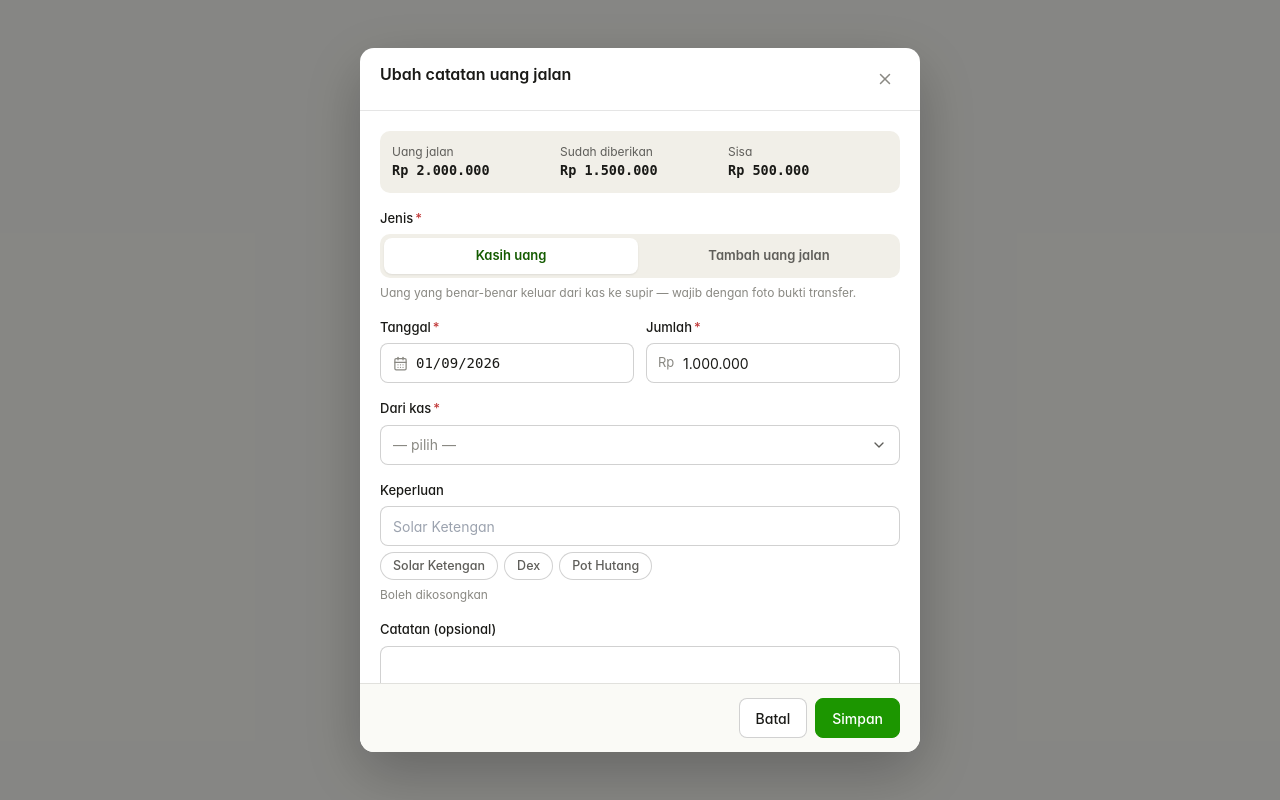
Test case: UangJalanModal — batas uang jalan › mengubah pencairan lama: nominal lamanya ikut dihitung sebagai sisa
The image size is (1280, 800).
Replace the text in the field with placeholder "0" with "1500000": (773, 363) [646,343,900,383]
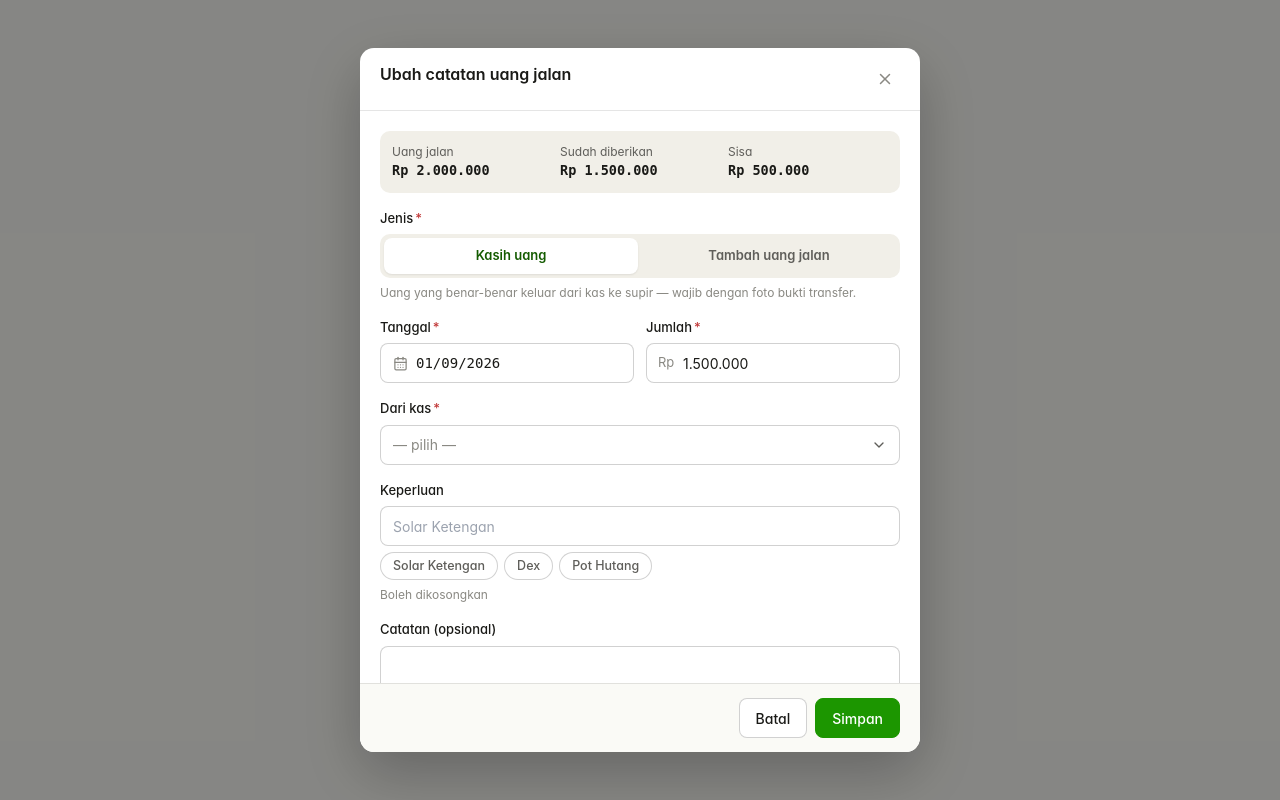
expect the text "melebihi sisa uang jalan" is not shown: met
Replace the text in the field with placeholder "0" with "1500001": (773, 363) [646,343,900,383]
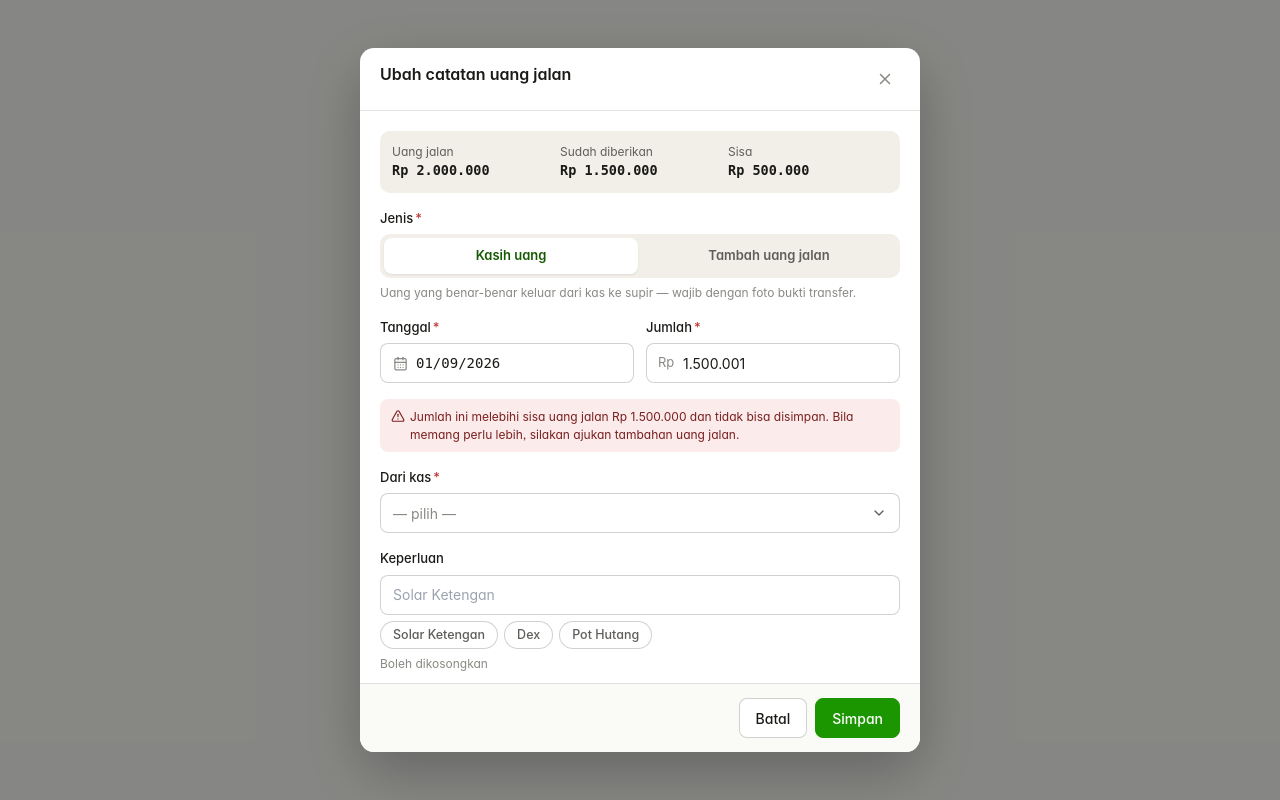
expect the text "melebihi sisa uang jalan" is shown: met, box [410,409,612,424]
